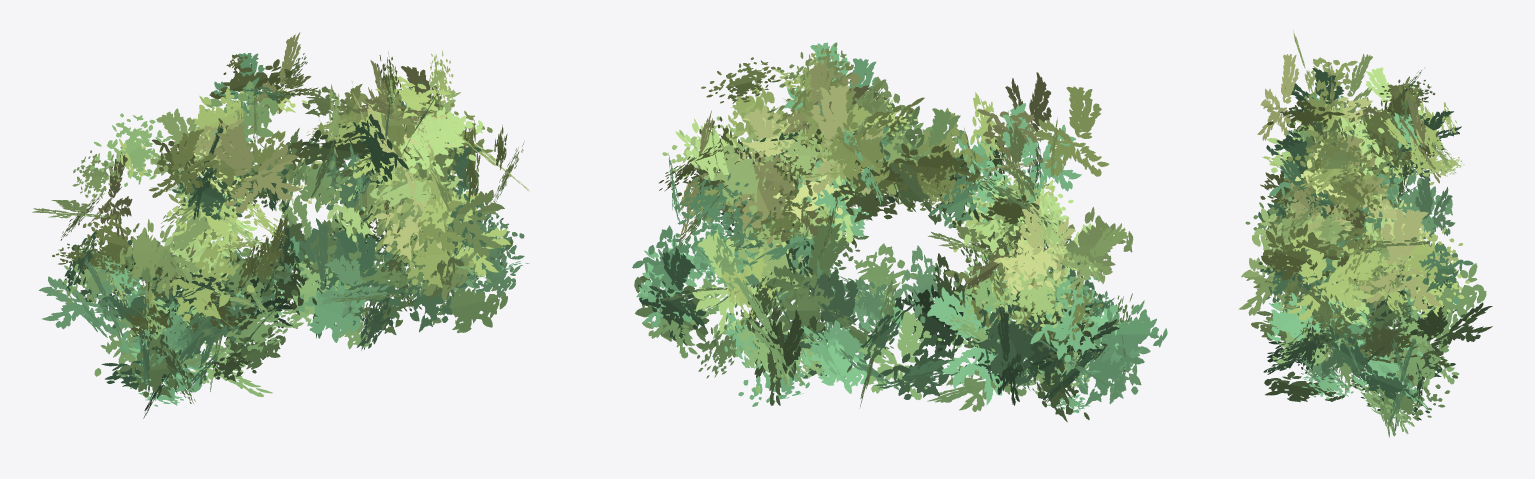
Rendered from Hedge_01_Soft_Rectangle_LOD1.glb.
3 renders of one model, left to right at view 1: azimuth 30°, elevation 25°; view 2: azimuth 150°, elevation 25°; view 3: azimuth 270°, elevation 25°, orthographic. The views are drawn at different scales.
Parts seen in each view (by area): view 1: Hedge_01_Soft_Rectangle_LOD1; view 2: Hedge_01_Soft_Rectangle_LOD1; view 3: Hedge_01_Soft_Rectangle_LOD1.
Part boxes in pixels (x1,y1,x2,y2): Hedge_01_Soft_Rectangle_LOD1: (32,32,529,418); Hedge_01_Soft_Rectangle_LOD1: (632,42,1167,422); Hedge_01_Soft_Rectangle_LOD1: (1238,30,1492,437).
Bounding box in the file's own units: 2.77 × 1.7 × 1.54.
Materials: 6 (6 with a texture image).
